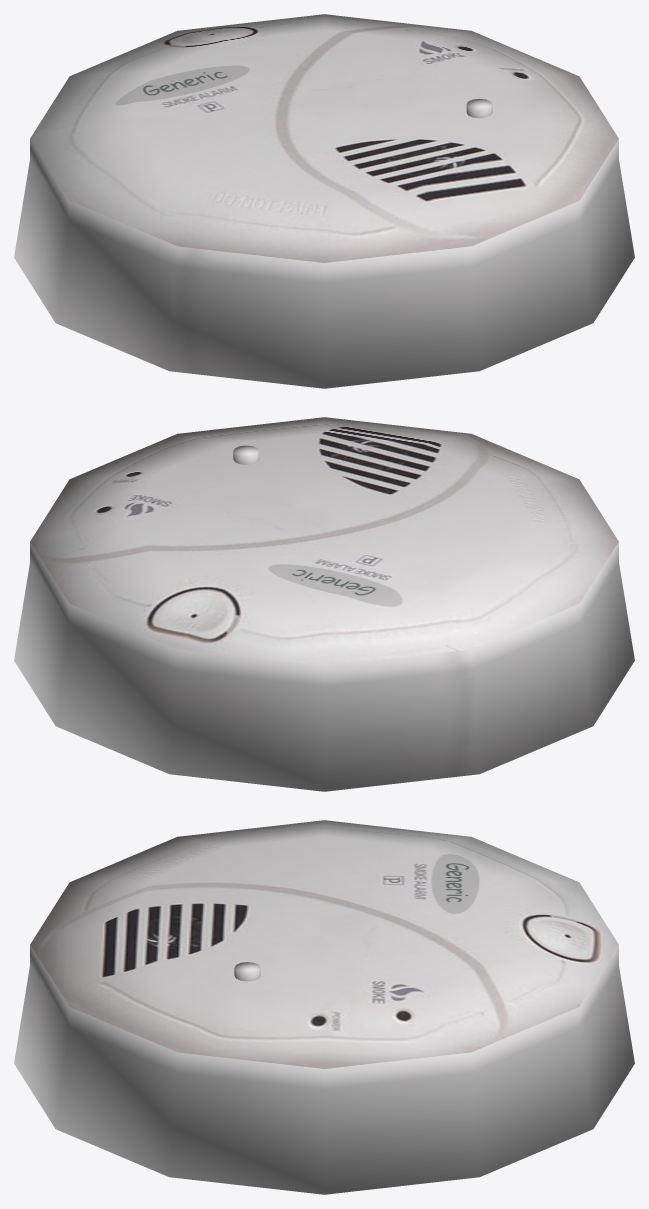
File: Smoke Detector.fbx
3 renders of one model, top to bottom at view 1: azimuth 30°, elevation 25°; view 2: azimuth 150°, elevation 25°; view 3: azimuth 270°, elevation 25°, orthographic.
Visible parts, largest first — view 1: Smoke_Detector; view 2: Smoke_Detector; view 3: Smoke_Detector.
Part boxes in pixels (x1,y1,x2,y2): Smoke_Detector: (14,14,634,388); Smoke_Detector: (14,417,634,791); Smoke_Detector: (14,820,634,1194).
Size of the model in its own units: 2 by 0.5436 by 2.
